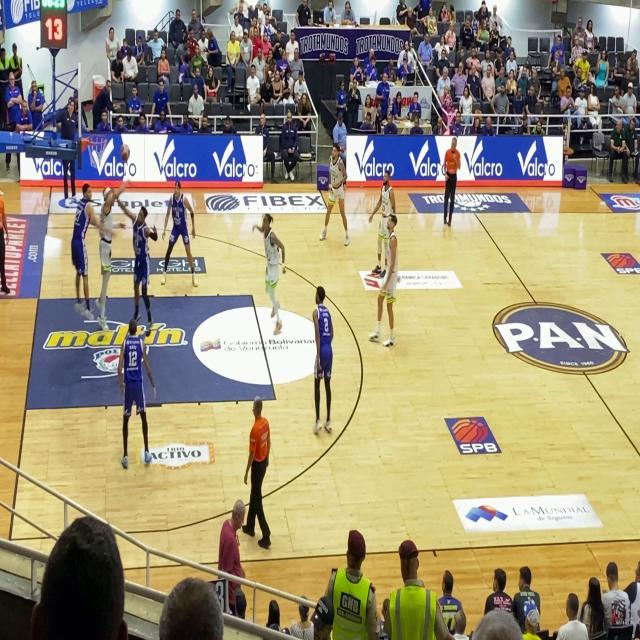Ball: (120, 140, 130, 172)
referee: (241, 393, 286, 559), (432, 128, 470, 230)
team1: (244, 205, 292, 346), (374, 200, 408, 362), (322, 139, 354, 257), (96, 172, 117, 323), (365, 156, 401, 223)
team2: (300, 283, 354, 443), (114, 316, 158, 479), (62, 160, 102, 331), (156, 169, 207, 297), (123, 196, 162, 316)
